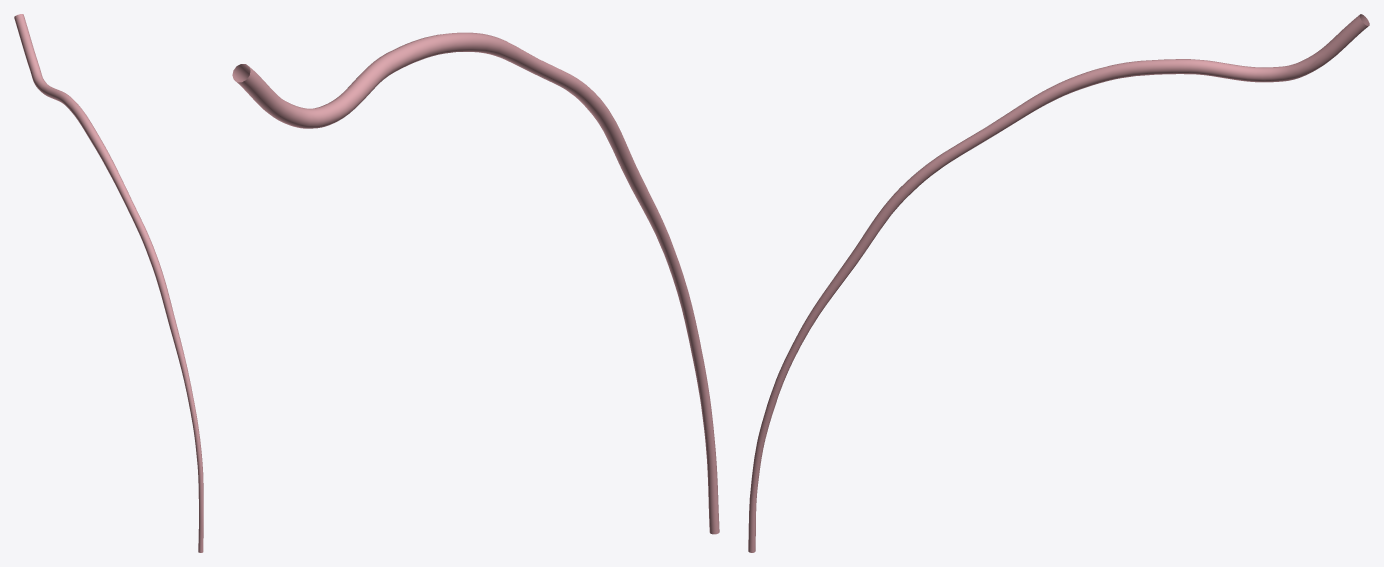
File: circulatorio-deep-artery-of-penis-l.glb
The picture shows the model from 3 angles, left to right: view 1: azimuth 30°, elevation 25°; view 2: azimuth 150°, elevation 25°; view 3: azimuth 270°, elevation 25°; orthographic projection. The views are drawn at different scales.
Visible parts, largest first — view 1: Deep artery of penis.l; view 2: Deep artery of penis.l; view 3: Deep artery of penis.l.
Boxes of the visible parts, bbox=[...] form: Deep artery of penis.l: bbox=[14, 14, 203, 552]; Deep artery of penis.l: bbox=[232, 32, 719, 534]; Deep artery of penis.l: bbox=[748, 14, 1369, 552].
Size of the model in its own units: 0.00502 by 0.0537 by 0.0544.
